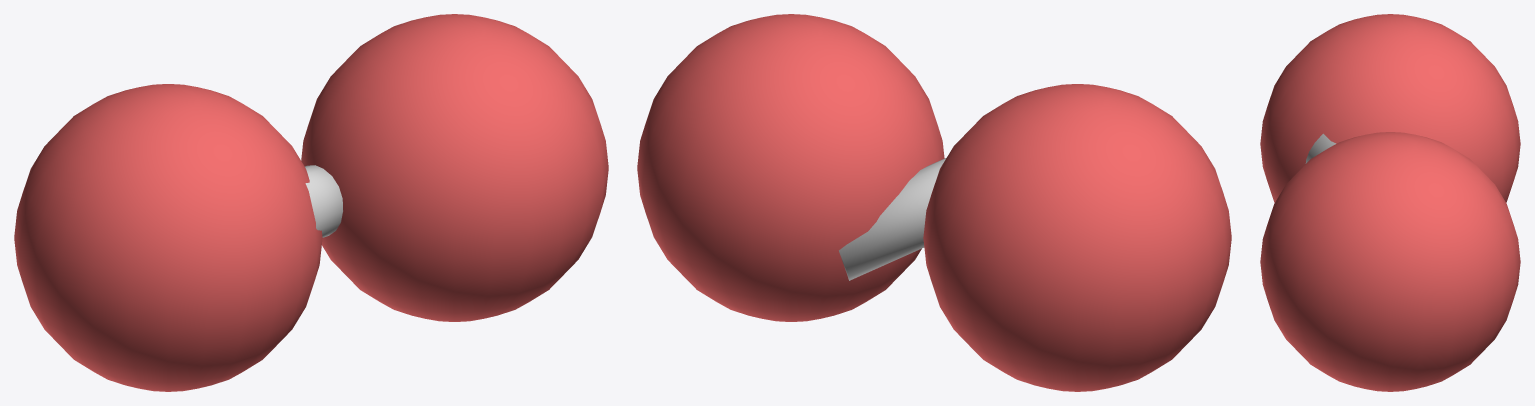
File: oxygen_molecule.glb
3 renders of one model, left to right at view 1: azimuth 30°, elevation 25°; view 2: azimuth 150°, elevation 25°; view 3: azimuth 270°, elevation 25°, orthographic. The views are drawn at different scales.
Visible parts, largest first — view 1: o2_node, o1_node, bond_node; view 2: o2_node, o1_node, bond_node; view 3: o1_node, o2_node, bond_node.
Boxes of the visible parts, box(x1,y1,x2,y2) form: o2_node: box(14, 84, 322, 391); o1_node: box(301, 14, 608, 321); bond_node: box(305, 165, 342, 237); o2_node: box(923, 84, 1231, 391); o1_node: box(637, 14, 944, 321); bond_node: box(839, 158, 946, 280); o1_node: box(1260, 132, 1520, 391); o2_node: box(1260, 14, 1520, 202); bond_node: box(1305, 133, 1336, 163).
Bounding box in the file's own units: 1.74 × 0.84 × 0.84.
